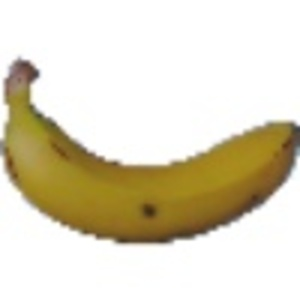banana: (4, 44, 299, 252)
